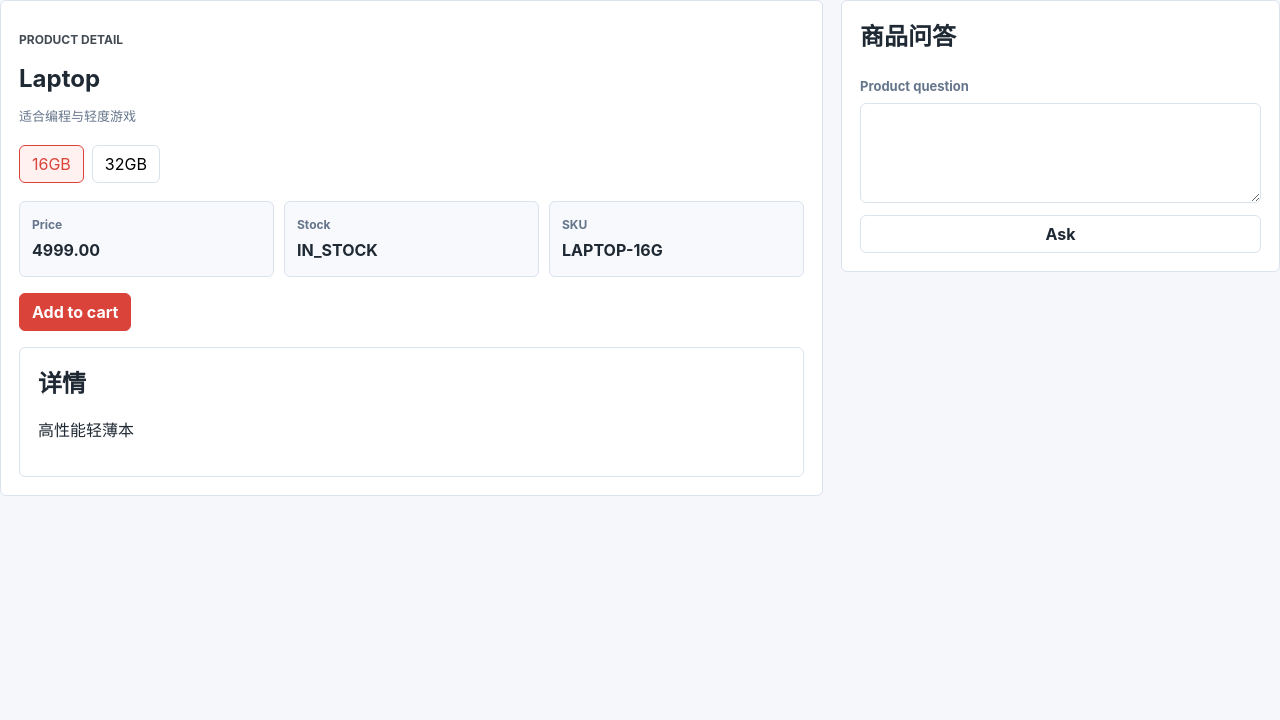
it: Product pages › disables add-to-cart while SKU switching reloads
Expected: the button "16GB" is shown, [19,144,84,182]
Click the button "32GB" at (126, 164), box [92,144,160,182]
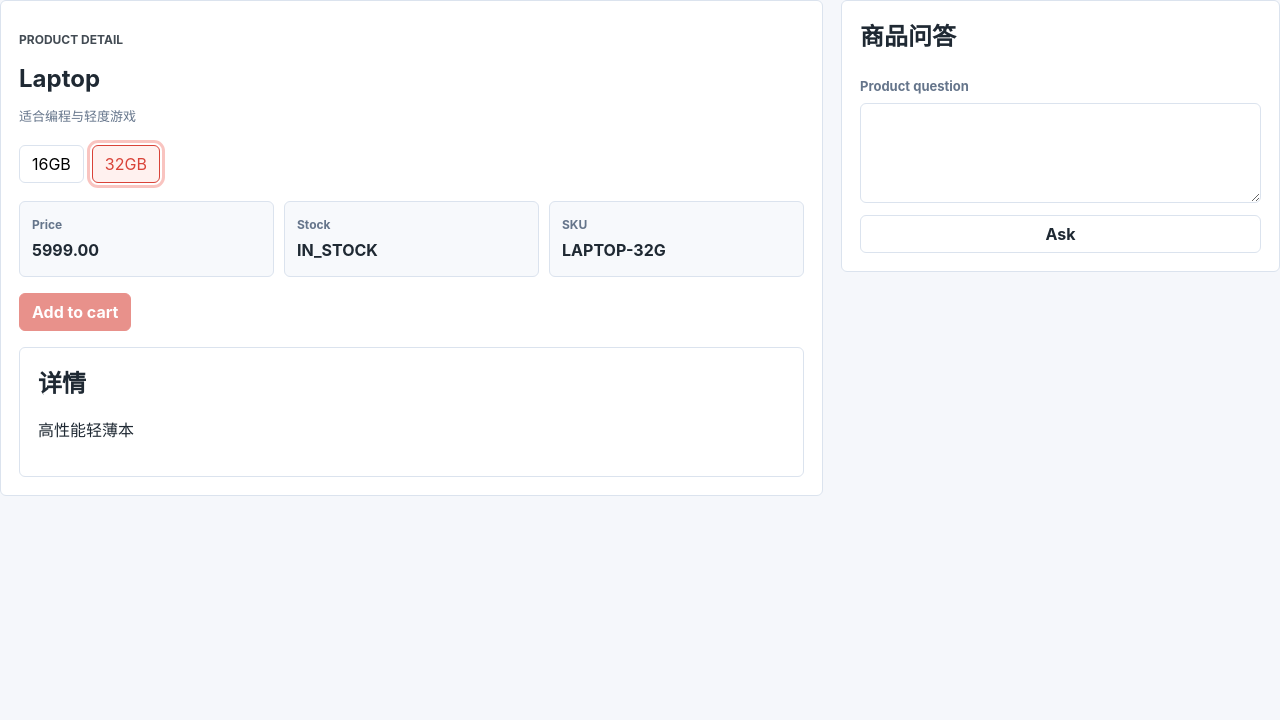
Now the button "Add to cart" is disabled, box [19,292,131,330]
